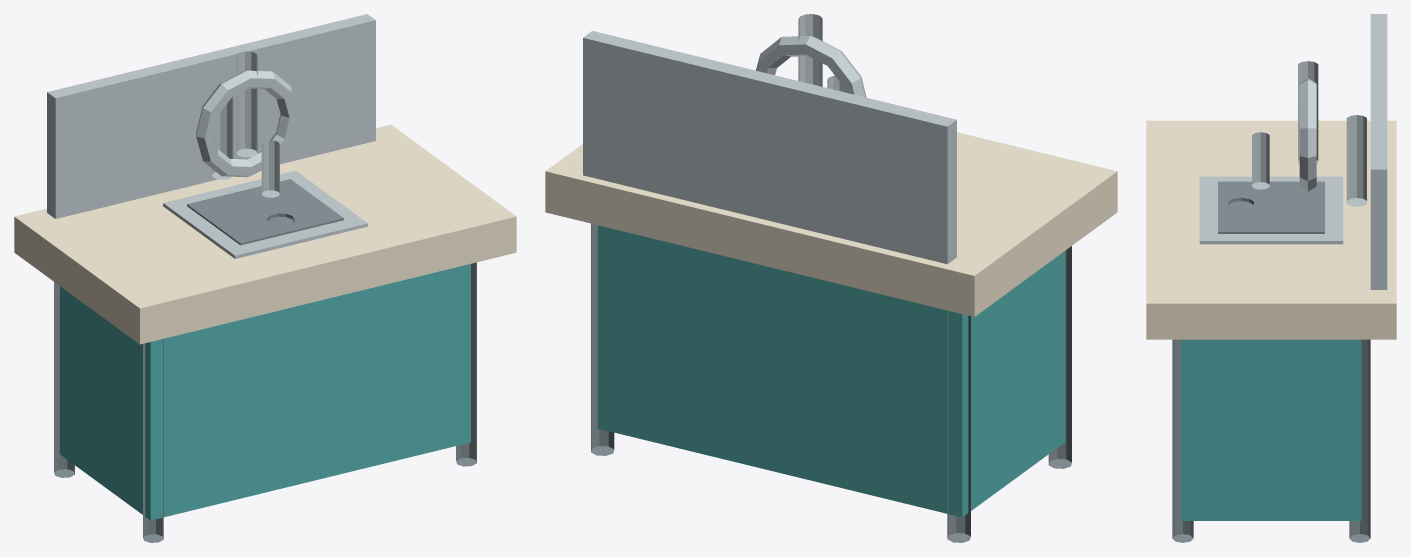
Rendered from sink_industrial.glb.
3 renders of one model, left to right at view 1: azimuth 30°, elevation 25°; view 2: azimuth 150°, elevation 25°; view 3: azimuth 270°, elevation 25°, orthographic. The views are drawn at different scales.
Visible parts, largest first — view 1: sink_industrial; view 2: sink_industrial; view 3: sink_industrial.
Part boxes in pixels (x1,y1,x2,y2): sink_industrial: (14,14,516,542); sink_industrial: (545,14,1117,542); sink_industrial: (1146,14,1396,542).
Size of the model in its own units: 1.42 by 1.44 by 0.82.
